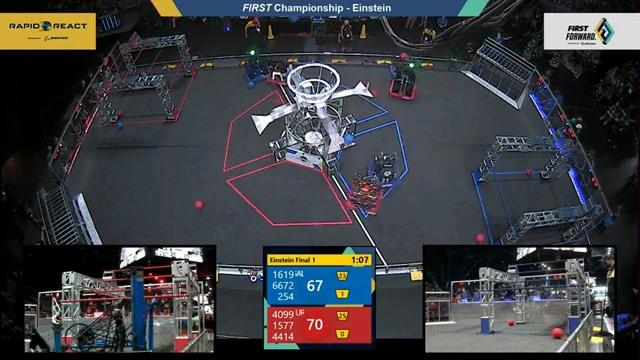robot: (345, 175, 384, 216), (364, 152, 401, 190), (242, 51, 270, 86), (388, 73, 418, 103), (268, 60, 296, 88), (389, 58, 416, 81)
